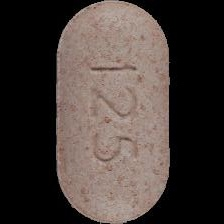68788-9234: (0, 0, 224, 224)
